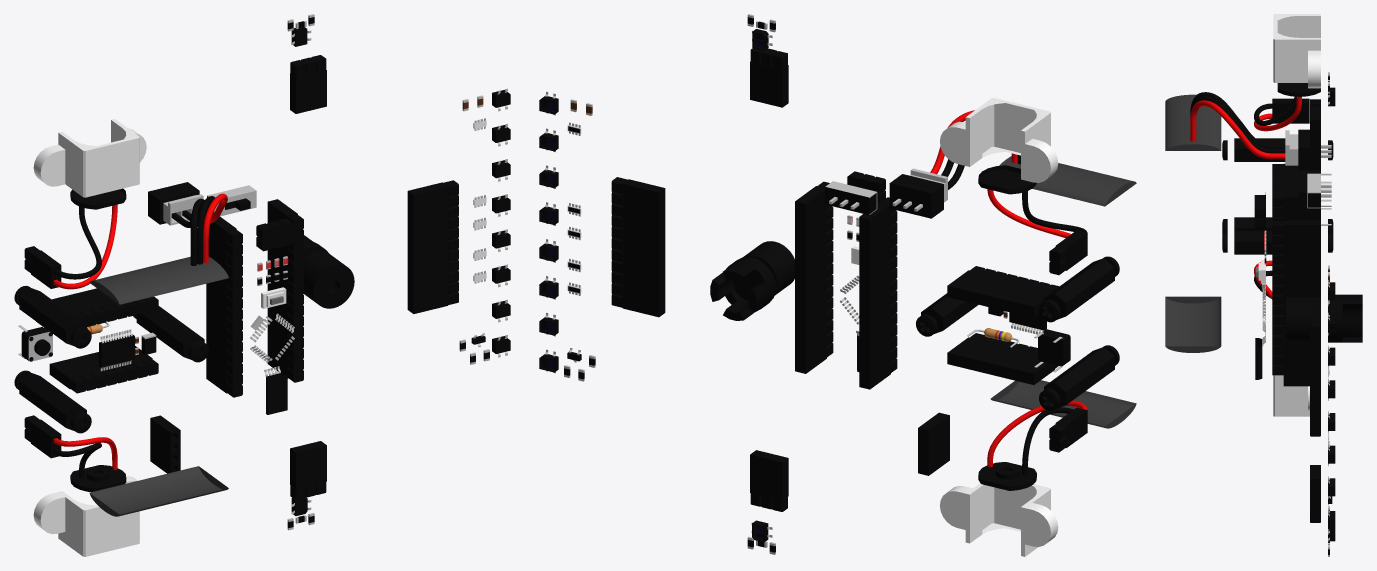
Rendered from Plastic.obj.
The picture shows the model from 3 angles, left to right: view 1: azimuth 30°, elevation 25°; view 2: azimuth 150°, elevation 25°; view 3: azimuth 270°, elevation 25°; orthographic projection. The views are drawn at different scales.
Parts seen in each view (by area): view 1: motors_plastic, battery, screws, base_nano, header_nano, base_IR, devices_IR, devices_nano, base_HRL, header_driver, buzzer, base_driver (+13 smaller); view 2: motors_plastic, base_nano, screws, base_driver, base_IR, battery, devices_IR, SW_PWR, base_HRL, caster, header_nano, base_BT (+12 smaller); view 3: battery, motors_plastic, base_nano, screws, header_nano, caster, SW_PWR, devices_IR, header_IR, devices_nano, buzzer, cable_R (+12 smaller).
Part boxes in pixels (box(x1,y1,x2,y2)): motors_plastic: box(33, 119, 146, 556); battery: box(89, 256, 228, 516); screws: box(14, 285, 208, 433); base_nano: box(206, 199, 297, 393); header_nano: box(226, 214, 303, 397); base_IR: box(407, 182, 448, 313); devices_IR: box(459, 88, 510, 364); devices_nano: box(250, 218, 294, 414); base_HRL: box(290, 70, 326, 488); header_driver: box(70, 296, 158, 393); buzzer: box(303, 250, 354, 308); base_driver: box(49, 288, 152, 389); motors_plastic: box(940, 98, 1058, 556); base_nano: box(795, 186, 890, 389); screws: box(916, 256, 1119, 410); base_driver: box(947, 270, 1054, 384); base_IR: box(622, 179, 665, 317); battery: box(990, 156, 1136, 428); devices_IR: box(539, 91, 595, 381); SW_PWR: box(825, 174, 943, 218); base_HRL: box(750, 61, 788, 500); caster: box(710, 256, 775, 320); header_nano: box(817, 181, 897, 372); base_BT: box(918, 412, 949, 475); battery: box(1165, 94, 1221, 352); motors_plastic: box(1273, 14, 1320, 416); base_nano: box(1283, 192, 1320, 375); screws: box(1222, 138, 1333, 254); header_nano: box(1272, 193, 1283, 375); caster: box(1328, 294, 1362, 342); SW_PWR: box(1298, 129, 1331, 208); devices_IR: box(1328, 265, 1335, 531); header_IR: box(1310, 321, 1320, 436); devices_nano: box(1254, 195, 1266, 379); buzzer: box(1286, 297, 1320, 340); cable_R: box(1190, 100, 1285, 159).
Bounding box in the file's own units: 0.1222 × 0.1202 × 0.0455.
